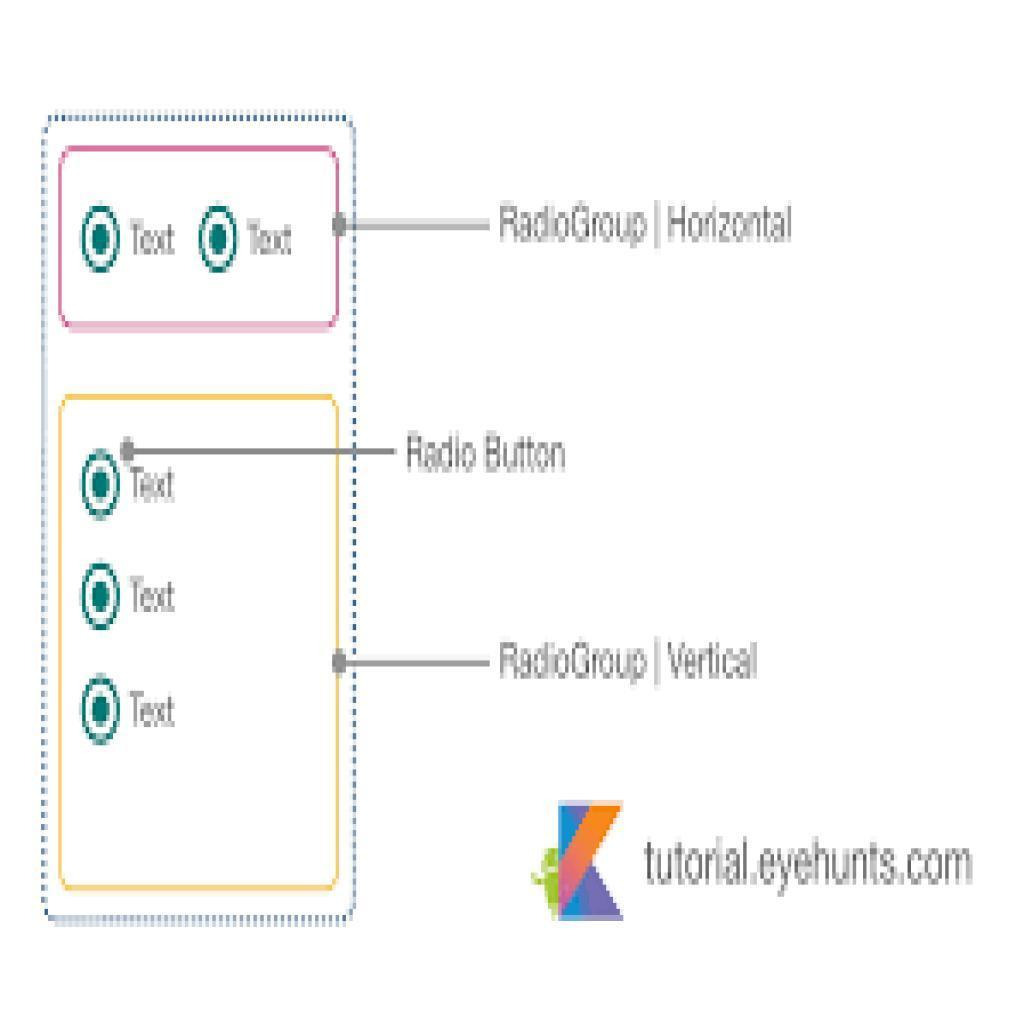radio: (78, 672, 123, 747), (79, 560, 122, 632), (81, 205, 123, 276), (199, 206, 240, 275), (83, 451, 123, 521)
